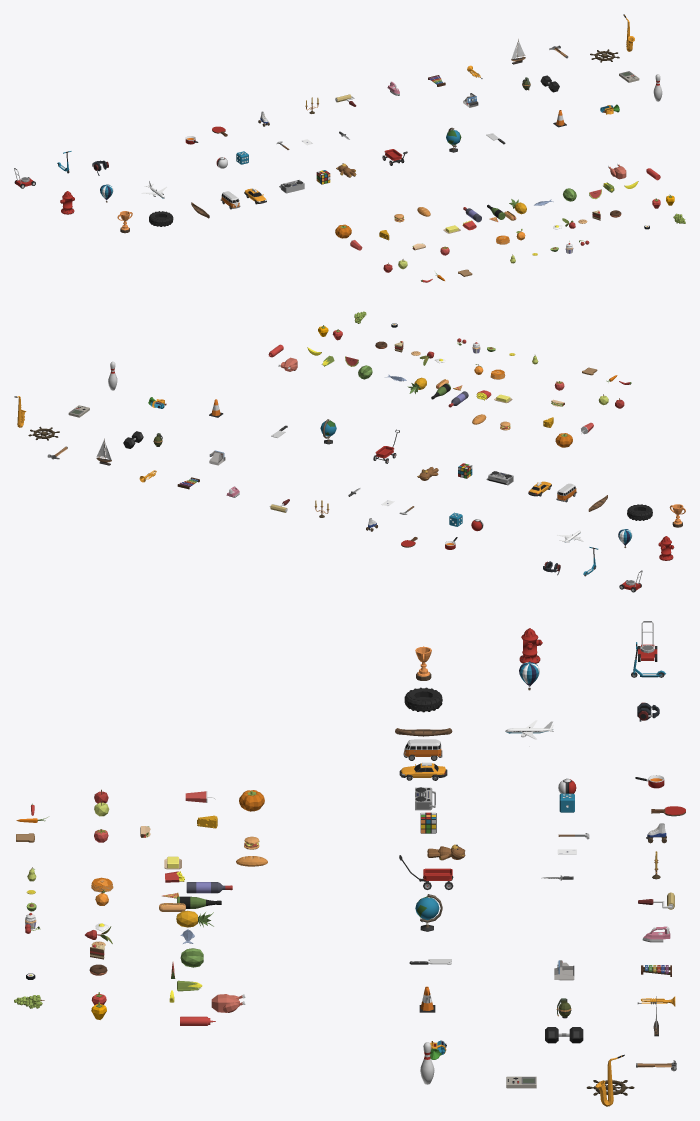
Rendered from itemsOld.glb.
3 views of the same model, one above another, from view 1: azimuth 30°, elevation 25°; view 2: azimuth 150°, elevation 25°; view 3: azimuth 270°, elevation 25° (orthographic). The views are drawn at different scales.
Visible parts, largest first — view 1: no part large enough to name; view 2: no part large enough to name; view 3: Big_Tire.
Part boxes in pixels (<box>): Big_Tire: <box>404,687,442,712</box>.
Size of the model in its own units: 8.63 by 0.525 by 5.36.
4 materials, 4 textured.
